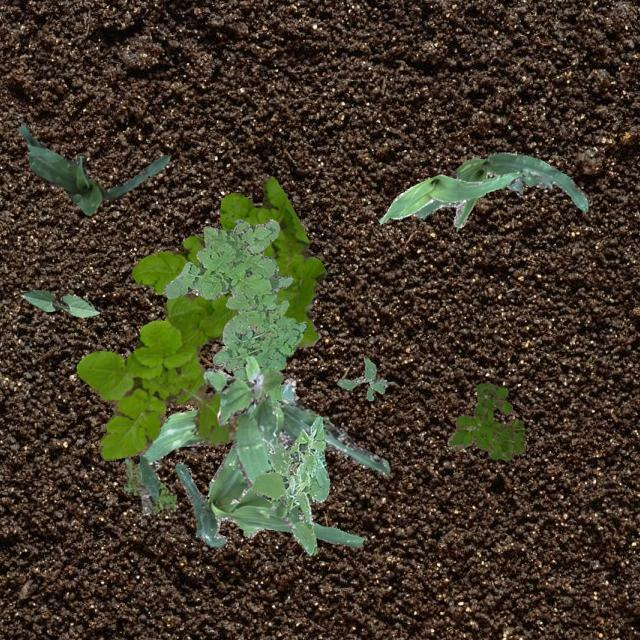crop: (138, 367, 388, 528), (173, 378, 363, 546), (18, 123, 168, 215), (414, 150, 586, 227), (378, 170, 524, 222), (21, 288, 98, 316)
weed: (76, 174, 326, 460), (162, 218, 306, 406), (250, 416, 328, 554), (202, 354, 282, 446), (446, 382, 524, 461), (124, 456, 176, 514), (336, 356, 386, 400)
